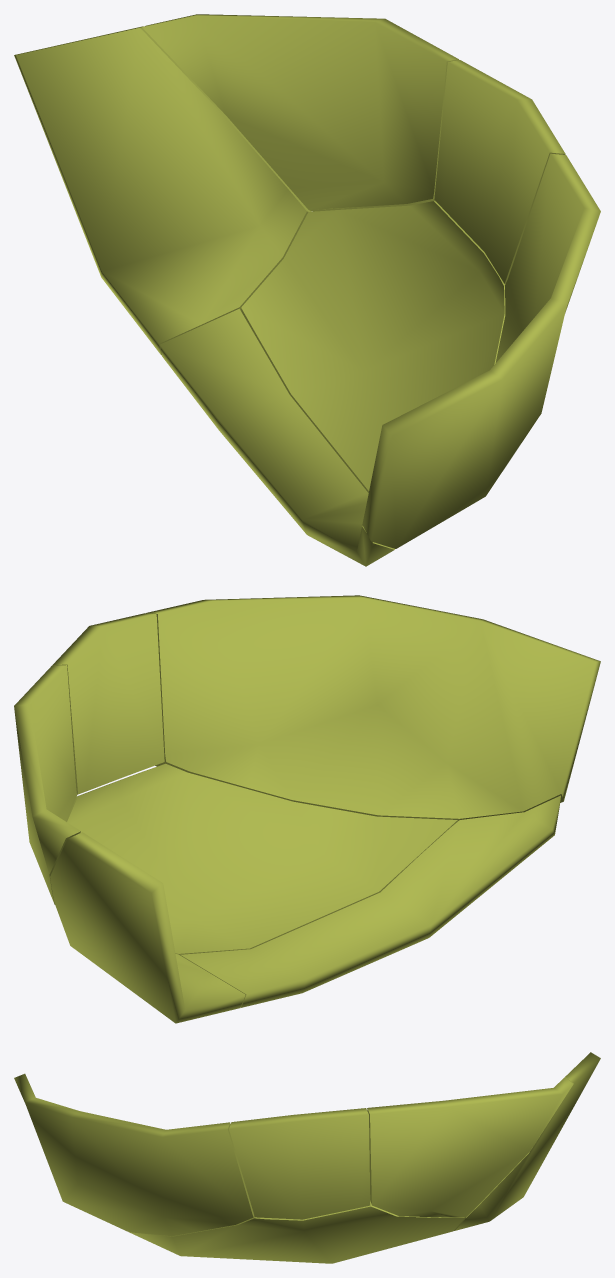
File: Plaque_19.fbx
3 views of the same model, one above another, from view 1: azimuth 30°, elevation 25°; view 2: azimuth 150°, elevation 25°; view 3: azimuth 270°, elevation 25° (orthographic). The views are drawn at different scales.
Parts seen in each view (by area): view 1: tooth_u.047_cell.002, tooth_u.047_cell.001, tooth_u.047_cell.004, tooth_u.047_cell.005, tooth_u.047_cell.003, tooth_u.047_cell; view 2: tooth_u.047_cell.005, tooth_u.047_cell.001, tooth_u.047_cell.003, tooth_u.047_cell.002, tooth_u.047_cell, tooth_u.047_cell.004; view 3: tooth_u.047_cell.005, tooth_u.047_cell.004, tooth_u.047_cell, tooth_u.047_cell.001, tooth_u.047_cell.002.
Part boxes in pixels (x1,y1,x2,y2): tooth_u.047_cell.002: (14, 26, 311, 355); tooth_u.047_cell.001: (241, 201, 505, 492); tooth_u.047_cell.004: (142, 14, 458, 211); tooth_u.047_cell.005: (362, 153, 600, 548); tooth_u.047_cell.003: (160, 308, 394, 566); tooth_u.047_cell: (434, 60, 565, 284); tooth_u.047_cell.005: (146, 595, 600, 820); tooth_u.047_cell.001: (66, 763, 458, 954); tooth_u.047_cell.003: (180, 795, 560, 1007); tooth_u.047_cell.002: (50, 832, 245, 1023); tooth_u.047_cell: (52, 613, 164, 794); tooth_u.047_cell.004: (14, 665, 80, 904); tooth_u.047_cell.005: (14, 1073, 253, 1236); tooth_u.047_cell.004: (367, 1077, 573, 1217); tooth_u.047_cell: (229, 1108, 370, 1219); tooth_u.047_cell.001: (128, 1201, 464, 1263); tooth_u.047_cell.002: (454, 1052, 600, 1230).
Size of the model in its own units: 45.43 by 40.3 by 97.84.
